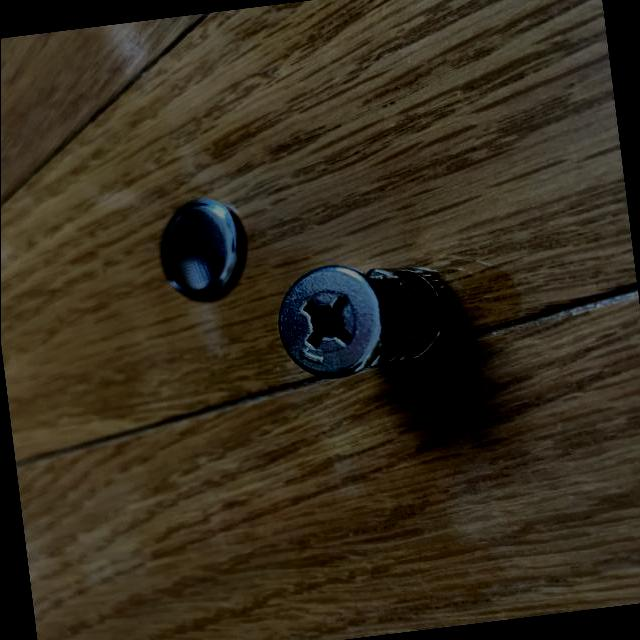COIN: (154, 192, 252, 303)
